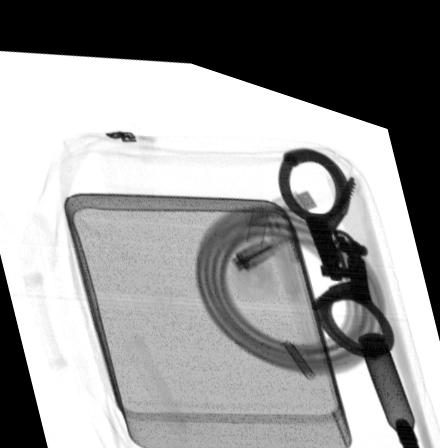Bullet: (357, 308, 423, 447)
HandCuffs: (277, 126, 396, 338)
